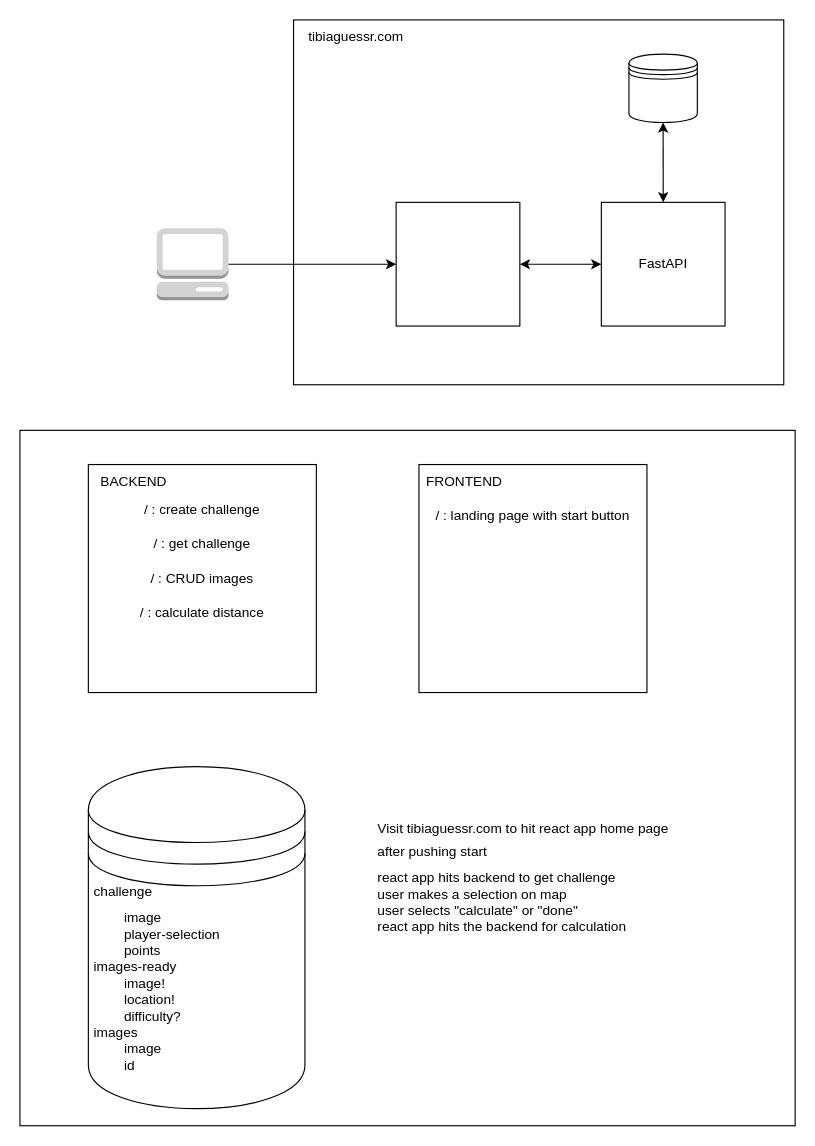
This 815x1146 diagram has some shape labels left out. The centre of each missing label's shape, as x and y in pixels:
"MongoDB" goes at pixel 662 88.
"React" goes at pixel 457 263.
